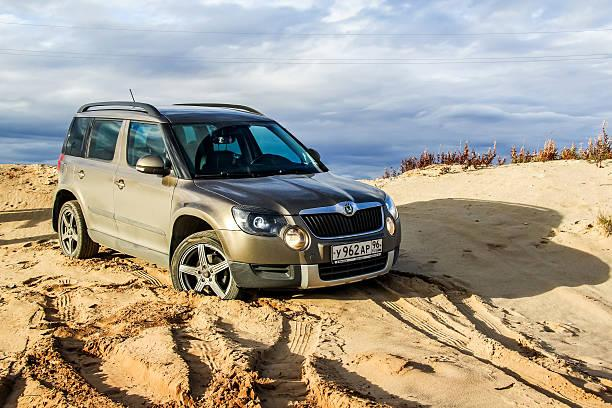skoda: (340, 199, 357, 217)
